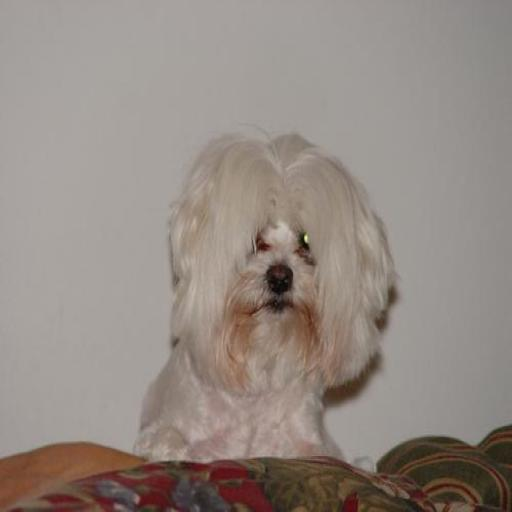dog_face: (172, 136, 390, 377)
